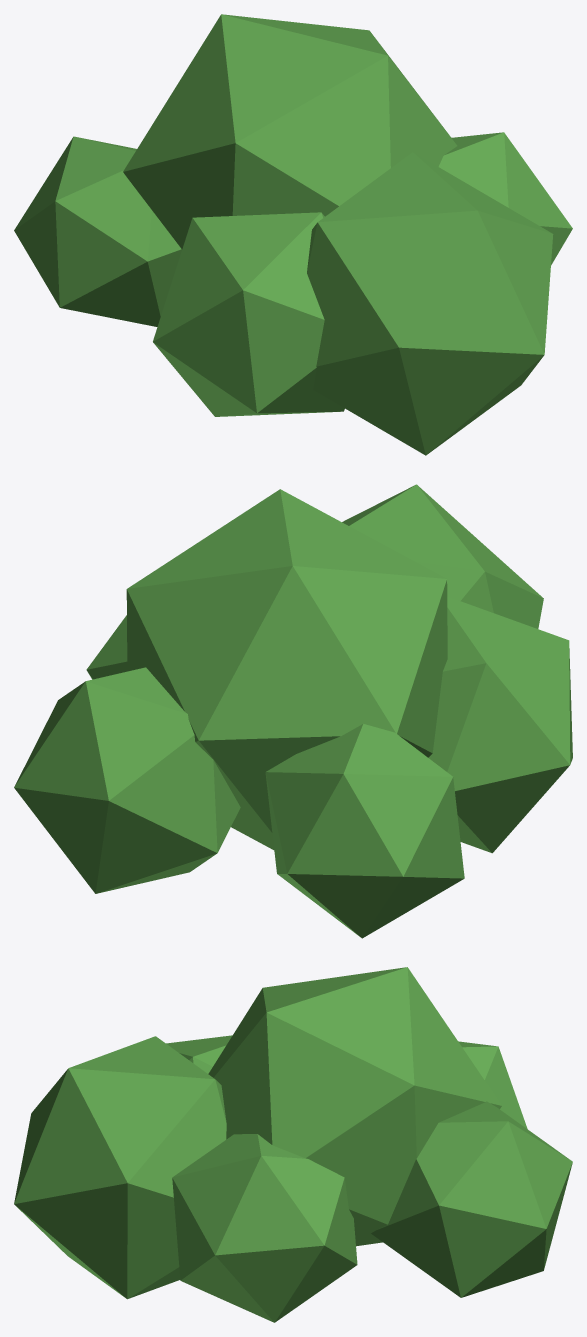
The model's file is Bush3.fbx.
The picture shows the model from 3 angles, top to bottom: view 1: azimuth 30°, elevation 25°; view 2: azimuth 150°, elevation 25°; view 3: azimuth 270°, elevation 25°; orthographic projection. The views are drawn at different scales.
Visible parts, largest first — view 1: Icosphere.005; view 2: Icosphere.005; view 3: Icosphere.005.
Part boxes in pixels (x1,y1,x2,y2): Icosphere.005: (14,14,572,455); Icosphere.005: (14,484,572,938); Icosphere.005: (14,967,572,1322).
Bounding box in the file's own units: 369 × 269 × 478.
